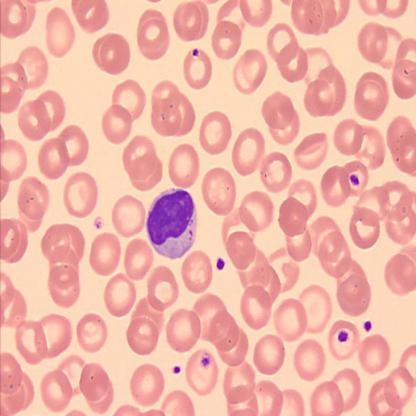Lymphocyte: (146, 187, 198, 259)
